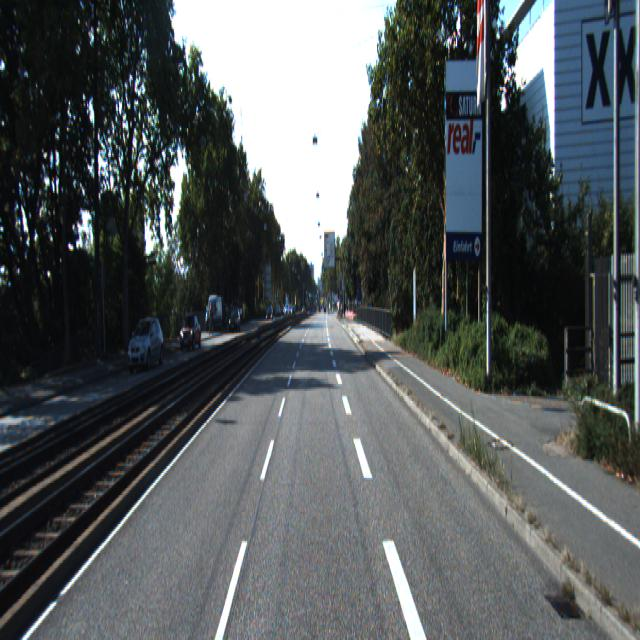Car: (127, 316, 165, 374), (179, 315, 202, 352)
